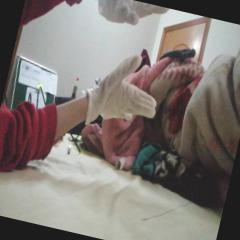gloved: (82, 46, 167, 138), (92, 0, 170, 35)
